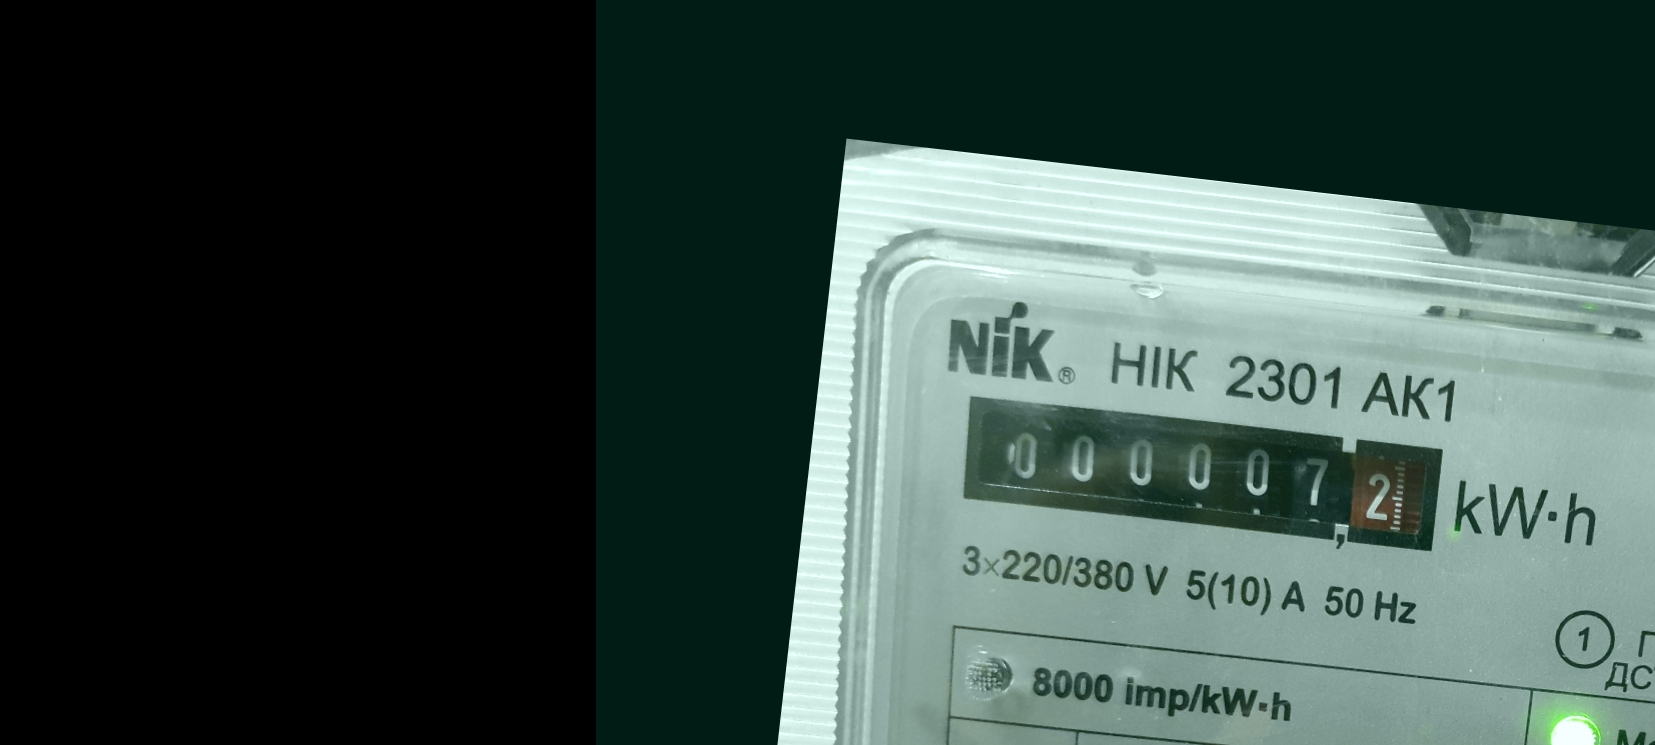0: (1064, 429, 1104, 485), (1182, 437, 1219, 494), (1124, 433, 1161, 489), (1240, 444, 1277, 500), (1008, 427, 1045, 482)
2: (1361, 470, 1397, 524)
7: (1298, 452, 1333, 510)
screen: (940, 374, 1466, 573)
